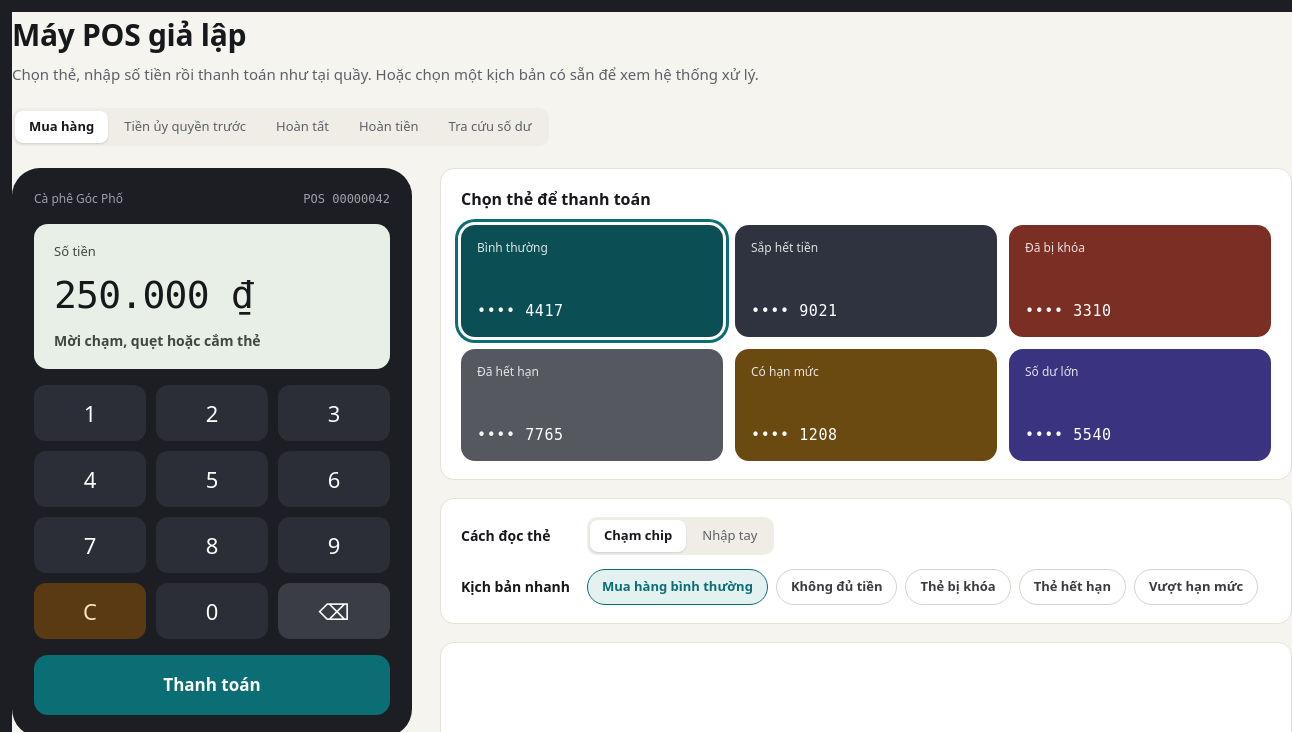
Scenario: PosScreen › MCN-305-AC1 manual entry, keypad digits and a scenario preset shape the request
Click the button "Không đủ tiền".
click(837, 586)  # box [776, 568, 898, 604]
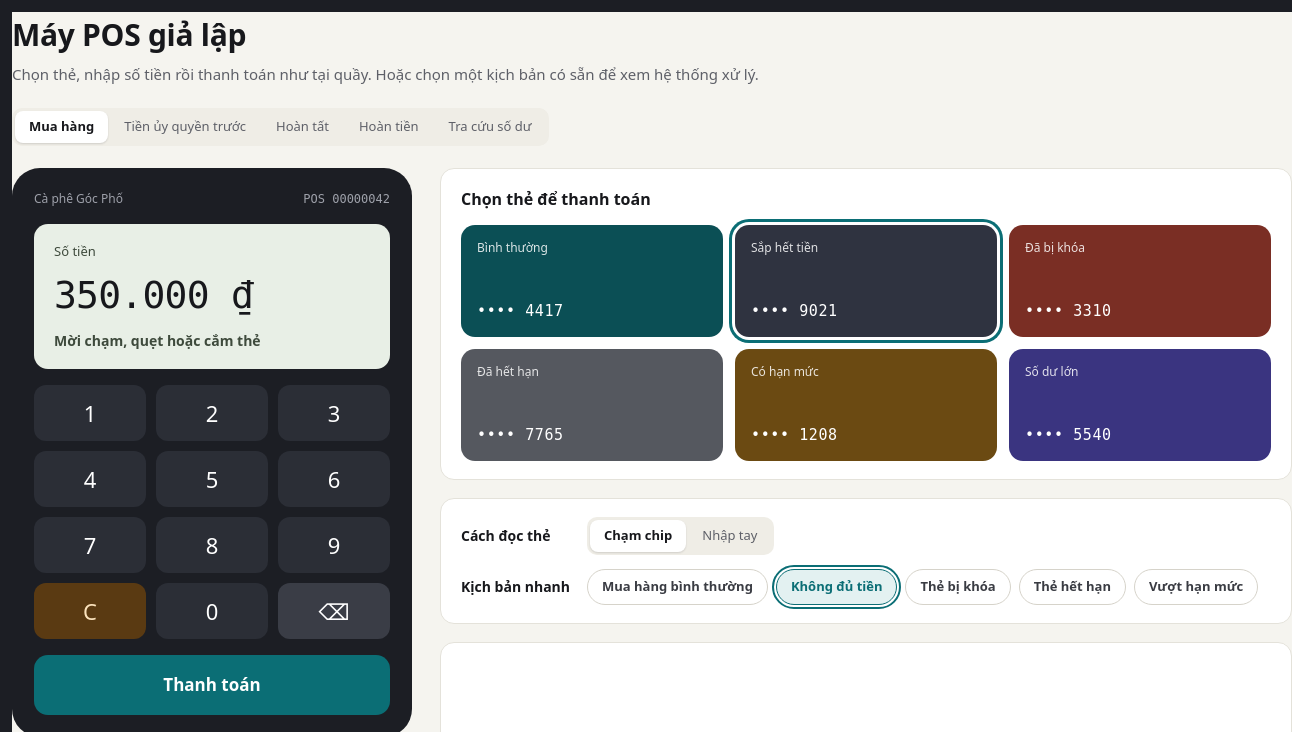
Check: the message shows "350.000 ₫", box [34, 224, 390, 369]
Click the button "Nhập tay".
click(730, 536)  # box [688, 520, 772, 552]
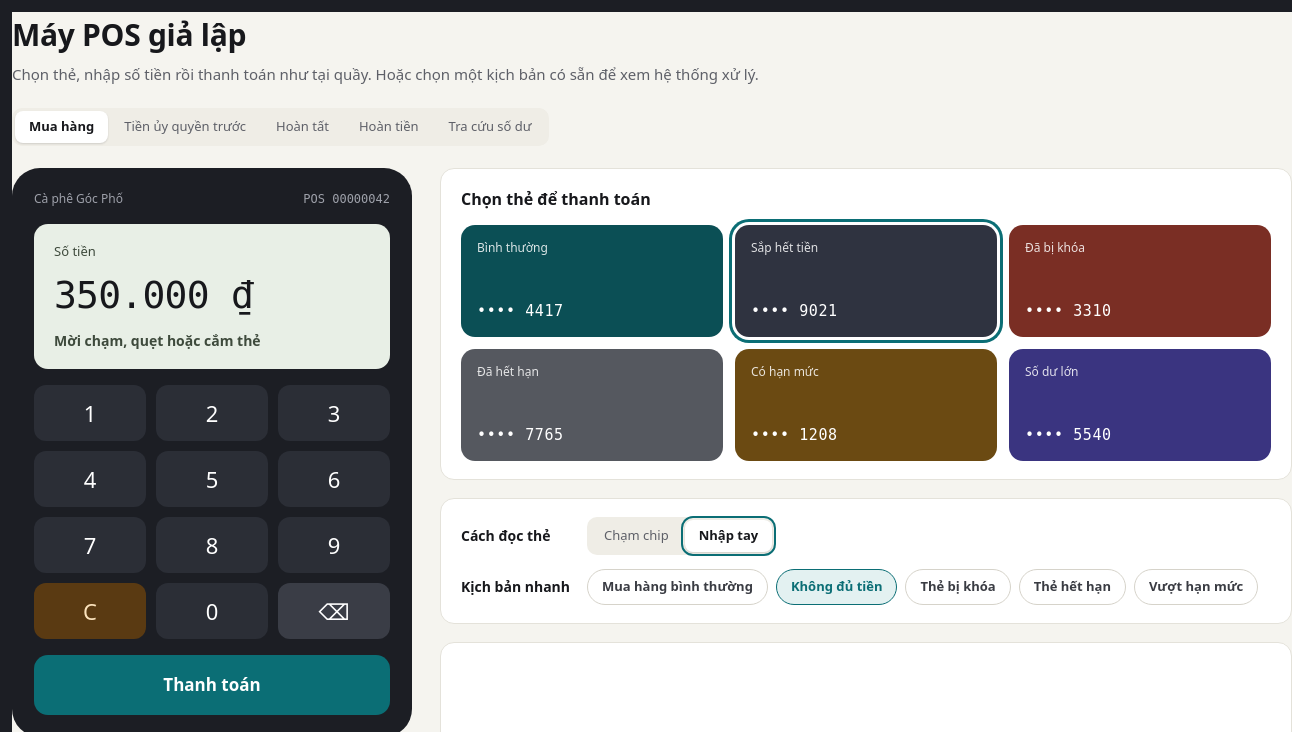
Click the button named "Xóa một số".
click(334, 611)  # box [278, 583, 390, 639]
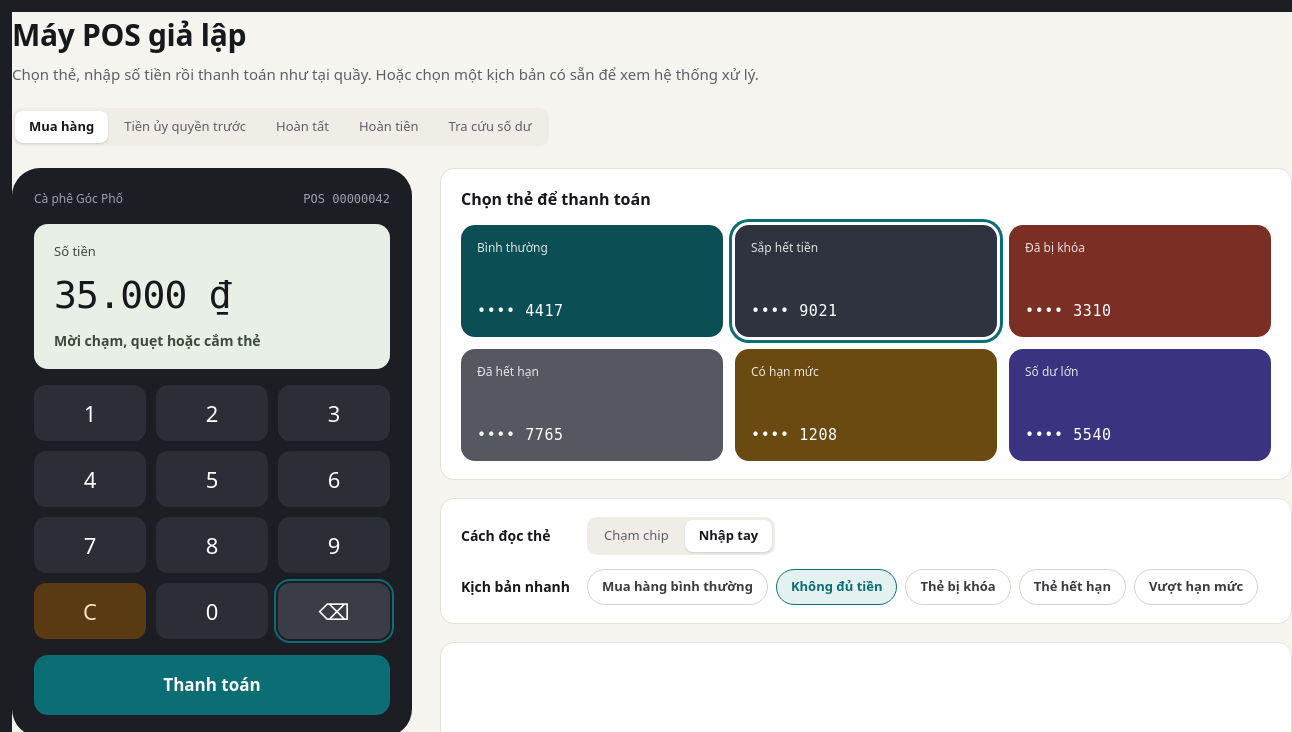
Click the button "Thanh toán".
click(212, 685)  # box [34, 655, 390, 715]
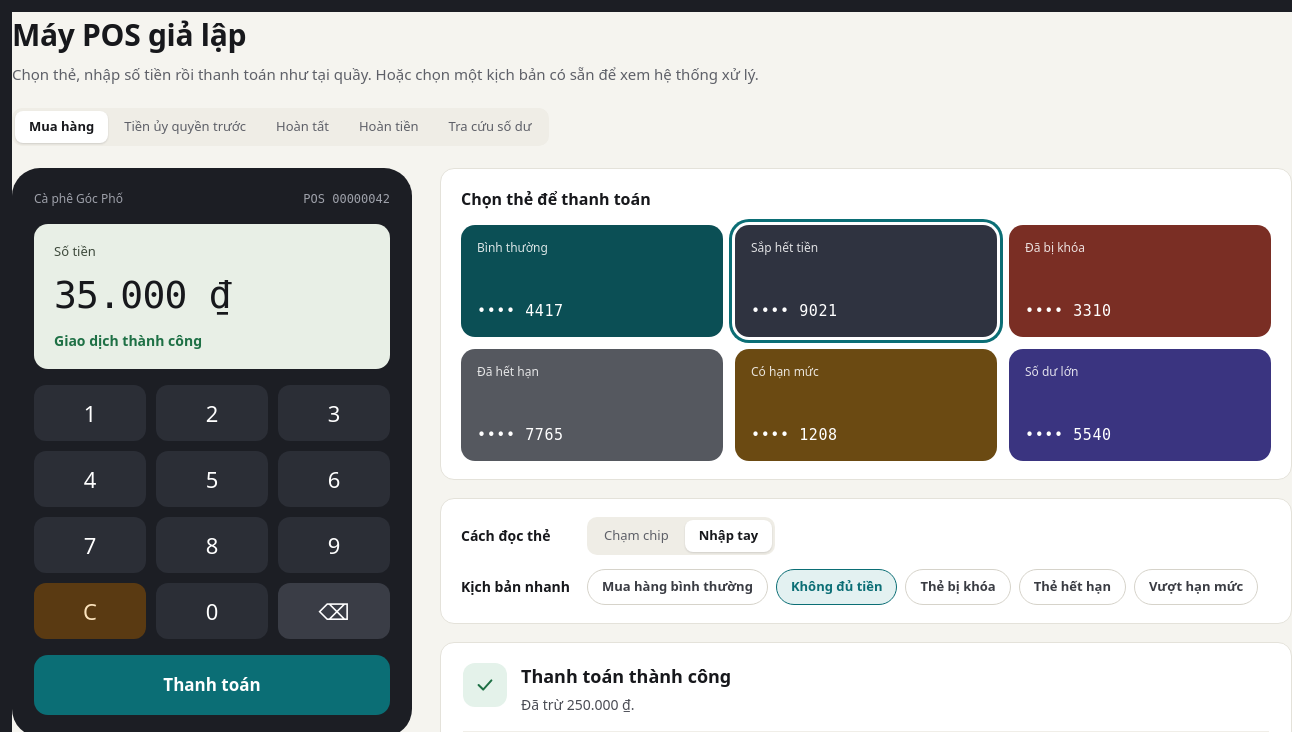
Check: the text "Thanh toán thành công" is shown, box [521, 664, 731, 688]
